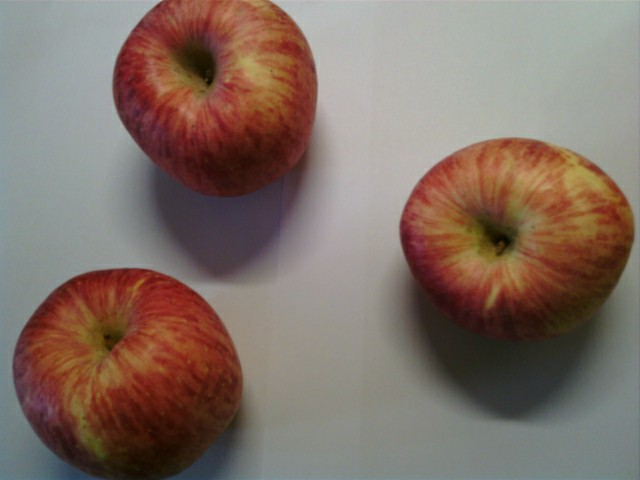normal_apple: (10, 268, 243, 480), (401, 136, 640, 338), (109, 1, 318, 198)
